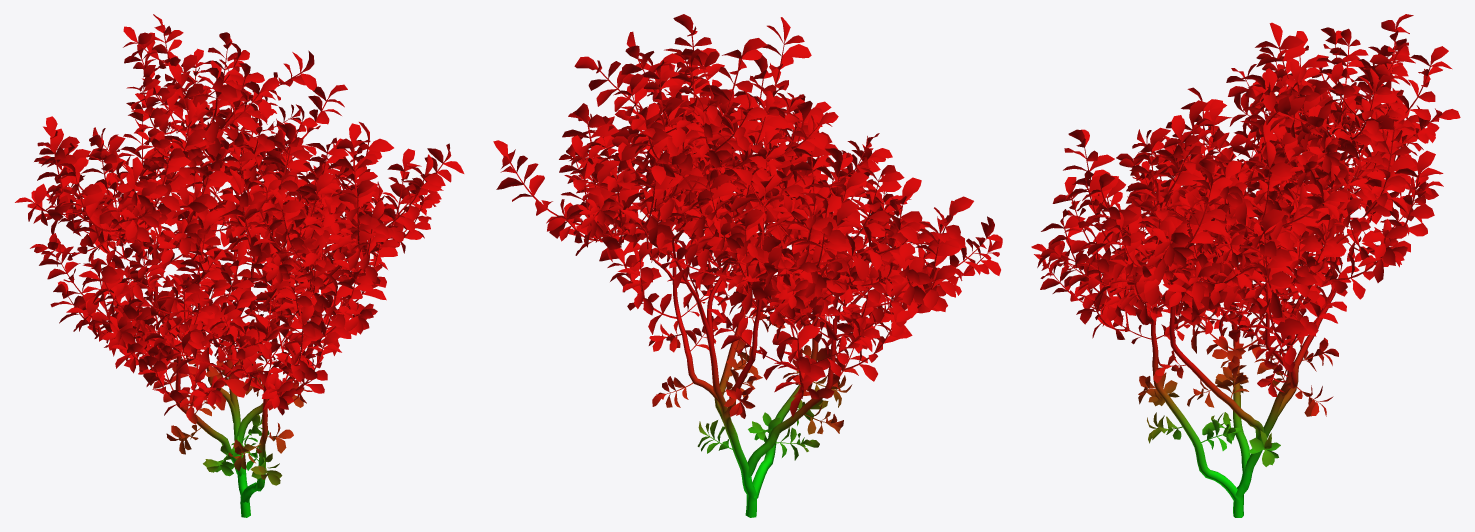
Rendered from European Spindle_LOD2_Var16.fbx.
The picture shows the model from 3 angles, left to right: view 1: azimuth 30°, elevation 25°; view 2: azimuth 150°, elevation 25°; view 3: azimuth 270°, elevation 25°; orthographic projection. The views are drawn at different scales.
Visible parts, largest first — view 1: _0i9b_Var16_LOD2; view 2: _0i9b_Var16_LOD2; view 3: _0i9b_Var16_LOD2.
Part boxes in pixels (x1,y1,x2,y2): _0i9b_Var16_LOD2: (15, 14, 464, 517); _0i9b_Var16_LOD2: (493, 14, 1002, 517); _0i9b_Var16_LOD2: (1031, 14, 1460, 517).
Size of the model in its own units: 226 by 258 by 208.
